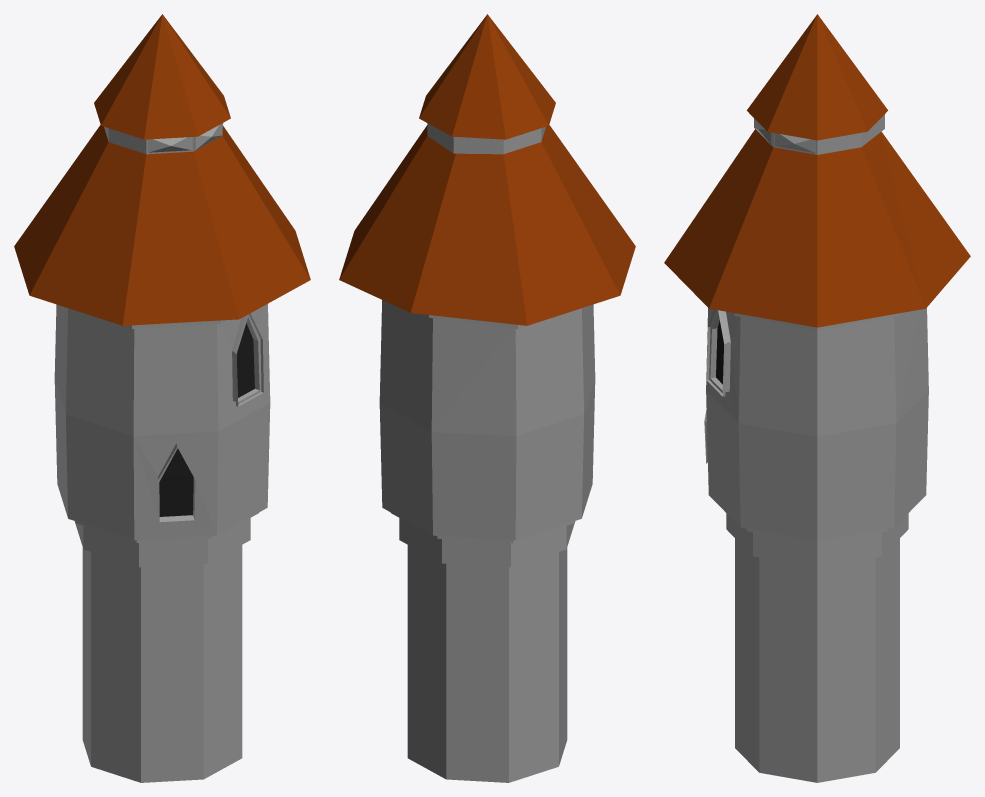
Rendered from Casle_Tower.fbx.
The picture shows the model from 3 angles, left to right: view 1: azimuth 30°, elevation 25°; view 2: azimuth 150°, elevation 25°; view 3: azimuth 270°, elevation 25°; orthographic projection.
Parts seen in each view (by area): view 1: polySurface41; view 2: polySurface41; view 3: polySurface41.
Part boxes in pixels (box(x1,y1,x2,y2)): polySurface41: box(14, 14, 310, 782); polySurface41: box(339, 14, 635, 782); polySurface41: box(664, 14, 970, 782).
Bounding box in the file's own units: 9.45 × 24.96 × 9.45.
